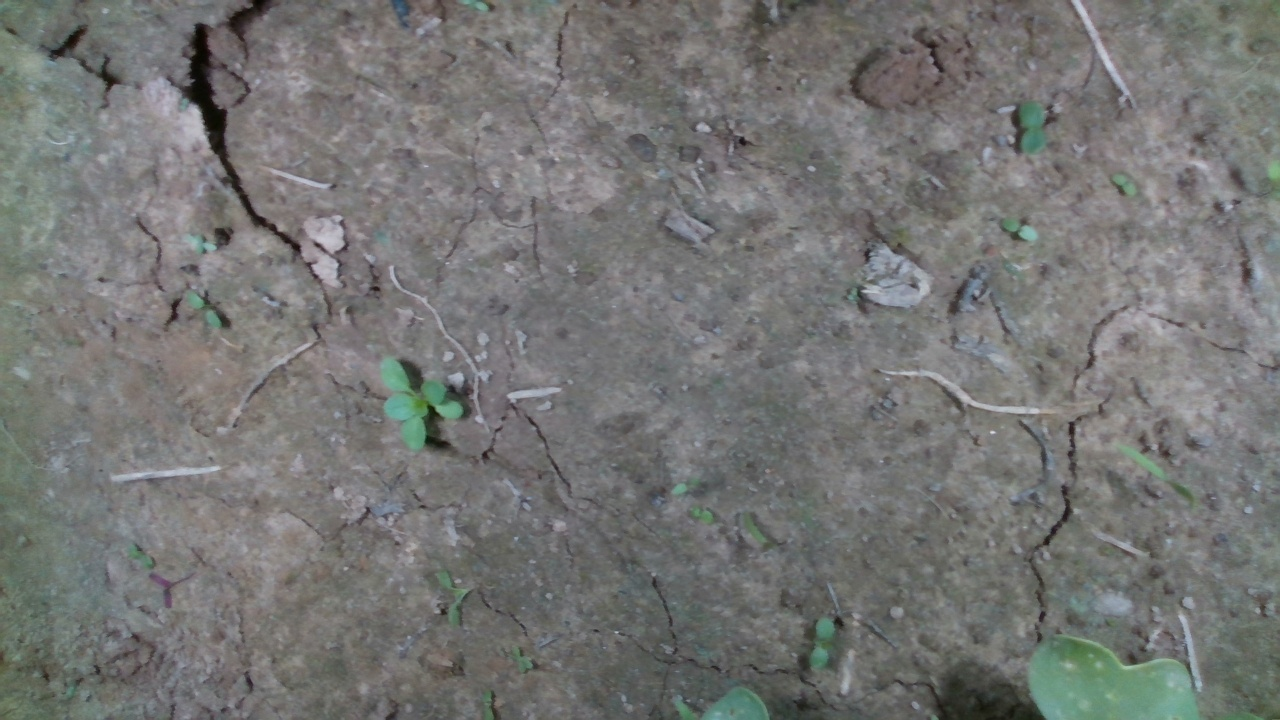weed: (1016, 97, 1045, 156), (807, 616, 835, 674), (184, 290, 223, 330), (999, 214, 1041, 243), (668, 469, 701, 496), (1109, 173, 1137, 199), (193, 234, 218, 257), (685, 506, 714, 525)
